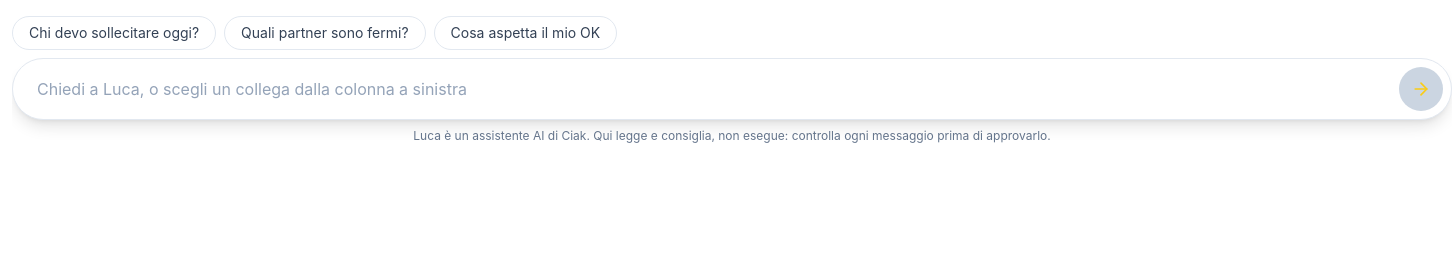
Test case: un suggerimento parte da solo
This screenshot has width=1452, height=261.
Step 1. Click the button "Quali partner sono fermi?" → (325, 33), box [224,16,426,50]
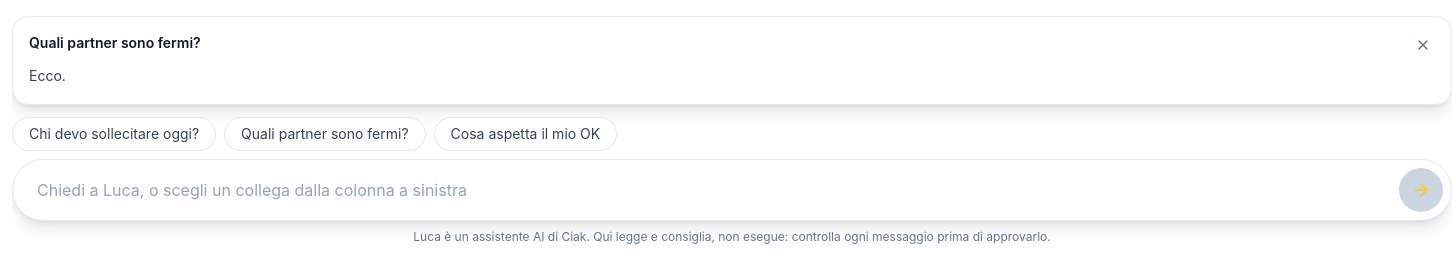
Expected: the text "Quali partner sono fermi?" is shown, [29,33,201,53]
